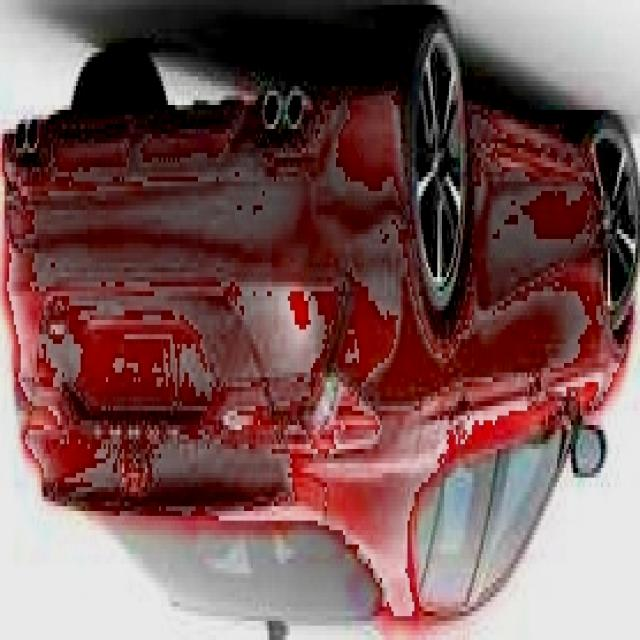maroon: (0, 64, 631, 618)
